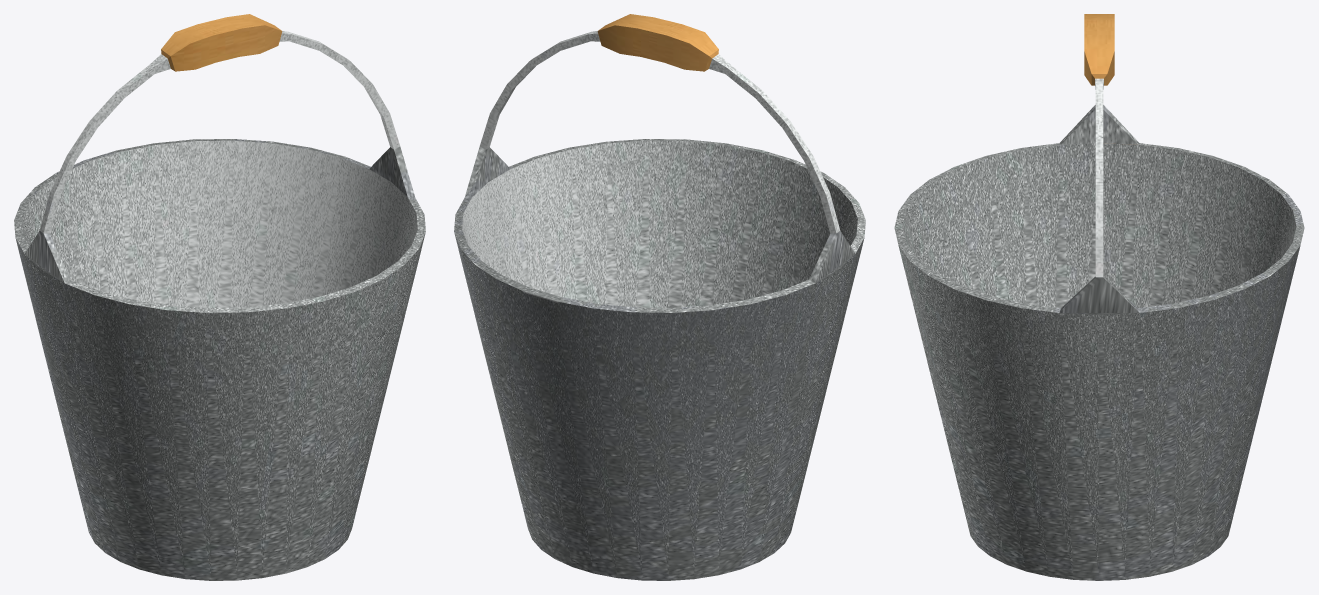
Rendered from MetalBucket.fbx.
The picture shows the model from 3 angles, left to right: view 1: azimuth 30°, elevation 25°; view 2: azimuth 150°, elevation 25°; view 3: azimuth 270°, elevation 25°; orthographic projection.
Visible parts, largest first — view 1: Cylinder; view 2: Cylinder; view 3: Cylinder.
Boxes of the visible parts, box(x1,y1,x2,y2) form: Cylinder: box(14, 14, 425, 580); Cylinder: box(454, 14, 865, 580); Cylinder: box(894, 14, 1304, 580).
Size of the model in its own units: 200 by 267 by 200.
Materials: 1 (1 with a texture image).
